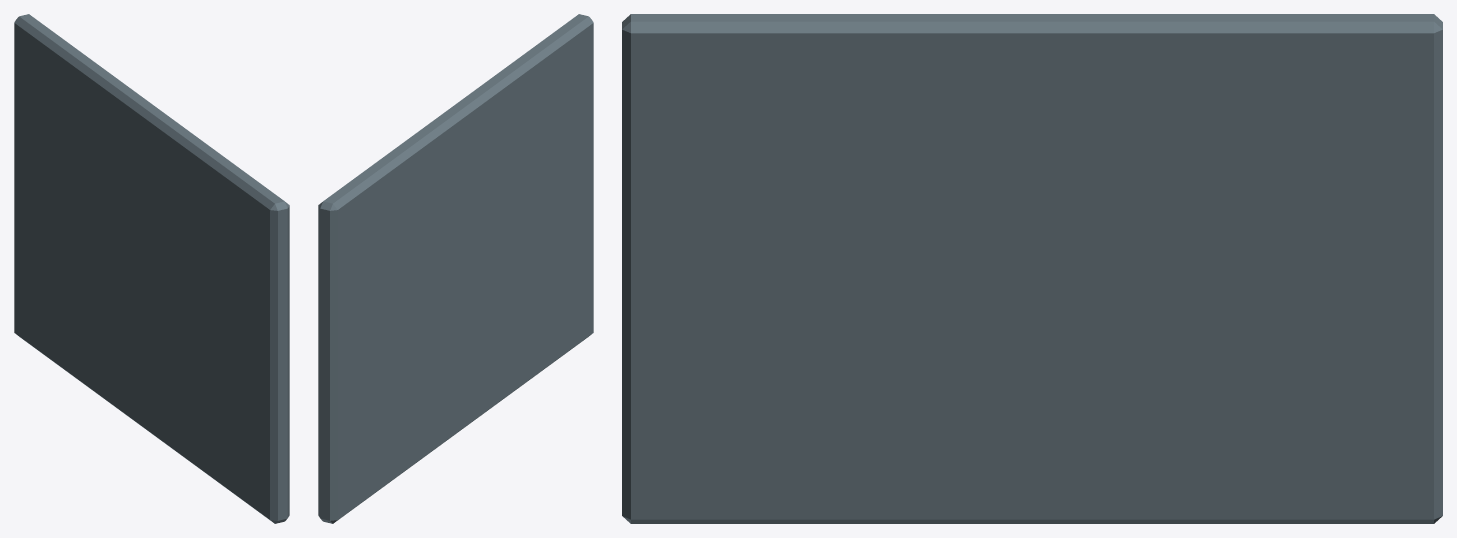
The model's file is plaka 7.fbx.
3 renders of one model, left to right at view 1: azimuth 30°, elevation 25°; view 2: azimuth 150°, elevation 25°; view 3: azimuth 270°, elevation 25°, orthographic. The views are drawn at different scales.
Parts seen in each view (by area): view 1: pCube398; view 2: pCube398; view 3: pCube398.
Boxes of the visible parts, <box> form: pCube398: <box>14,14,289,523</box>; pCube398: <box>318,14,593,523</box>; pCube398: <box>622,14,1442,523</box>.
Bounding box in the file's own units: 8.92 × 139 × 206.
